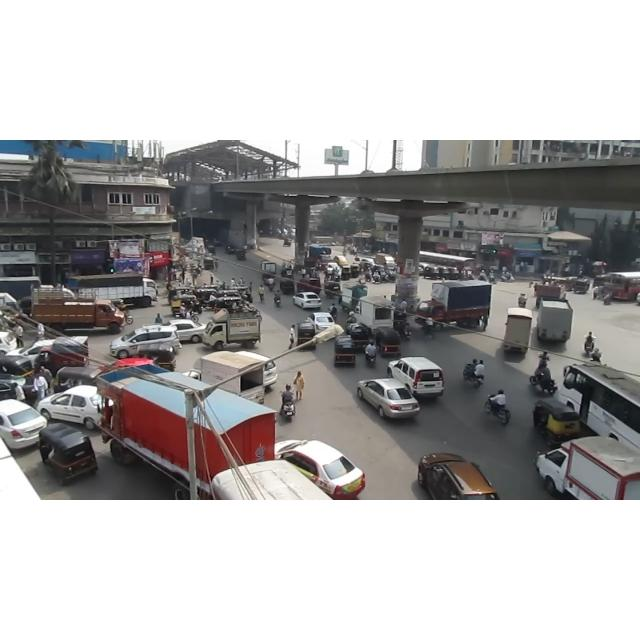auto: (35, 422, 104, 489), (532, 393, 588, 453), (137, 340, 181, 372), (3, 350, 33, 384), (376, 326, 404, 358), (337, 335, 358, 369), (299, 319, 317, 352), (279, 275, 297, 298)
truck: (94, 363, 278, 497), (529, 428, 640, 499), (184, 340, 283, 400), (31, 288, 143, 336), (416, 277, 496, 335), (73, 269, 166, 307), (204, 309, 288, 347), (348, 292, 403, 340), (37, 337, 101, 375), (537, 290, 575, 347), (501, 305, 534, 370)
